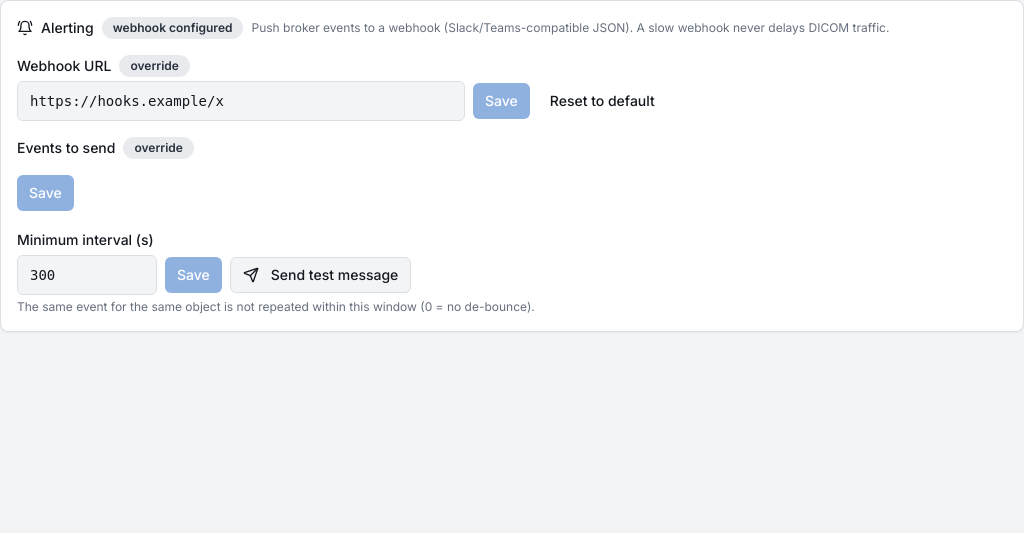
Scenario: NotificationsCard › reports a failing test message with the error
The image size is (1024, 533).
Click the button "Send test message" at (321, 275), box [230,257,411,293]
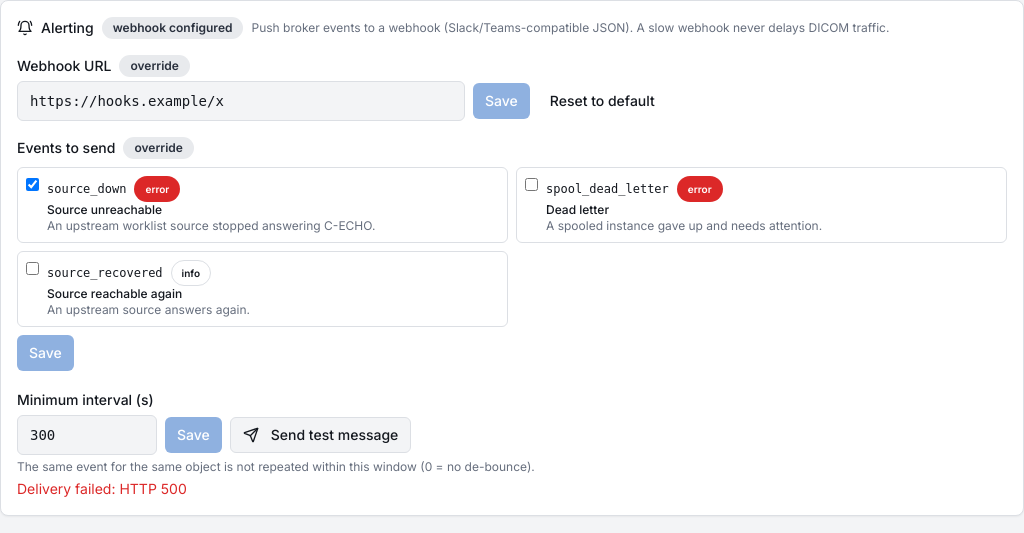
Check: the message with test id "notify-test-result" reads "Delivery failed: HTTP 500", box [17,480,187,497]
